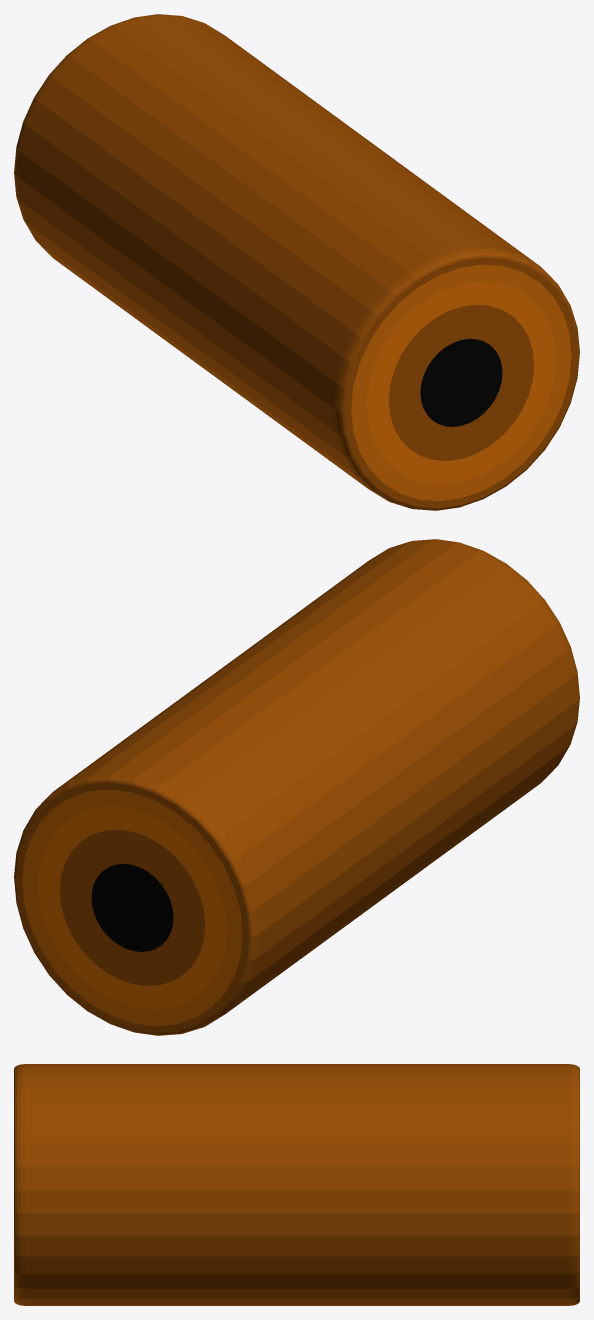
File: wood.fbx
3 renders of one model, top to bottom at view 1: azimuth 30°, elevation 25°; view 2: azimuth 150°, elevation 25°; view 3: azimuth 270°, elevation 25°, orthographic. The views are drawn at different scales.
Visible parts, largest first — view 1: Cylinder; view 2: Cylinder; view 3: Cylinder.
Part boxes in pixels (box(x1,y1,x2,y2)): Cylinder: box(14, 14, 579, 510); Cylinder: box(14, 539, 579, 1035); Cylinder: box(14, 1064, 579, 1305).
Bounding box in the file's own units: 200 × 200 × 467.
